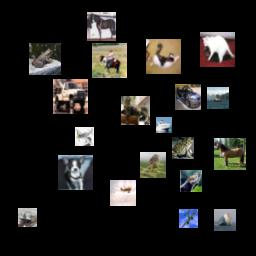airplane: (110, 180, 136, 206), (179, 209, 198, 228), (75, 127, 94, 146), (18, 208, 37, 227)
automobile: (175, 84, 201, 110)
bird: (140, 152, 166, 178), (180, 170, 202, 192)
cat: (146, 39, 181, 74), (200, 32, 235, 67), (121, 96, 150, 125)
dog: (58, 155, 93, 190)
frog: (29, 43, 61, 75), (172, 137, 194, 159)
ship: (207, 87, 229, 109), (214, 209, 236, 231), (156, 117, 172, 133)
truck: (53, 79, 88, 114)
